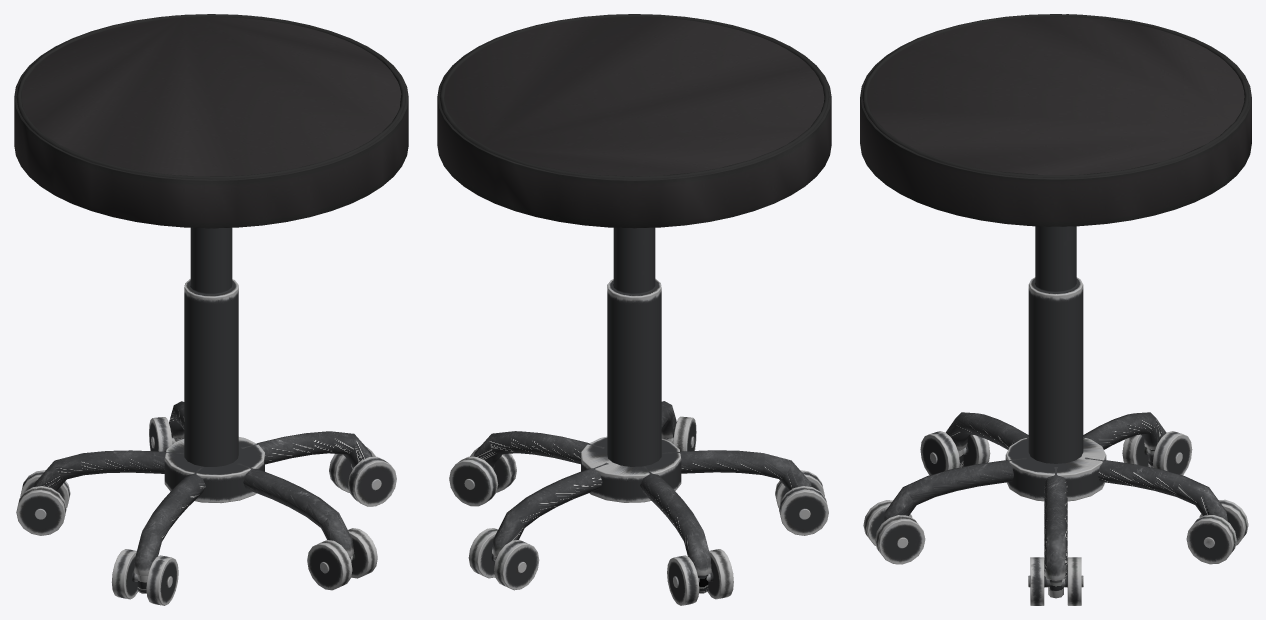
3 views of the same model, side by side, from view 1: azimuth 30°, elevation 25°; view 2: azimuth 150°, elevation 25°; view 3: azimuth 270°, elevation 25° (orthographic).
Parts seen in each view (by area): view 1: MA-32; view 2: MA-32; view 3: MA-32.
Boxes of the visible parts, bbox=[...] form: MA-32: bbox=[14, 14, 408, 605]; MA-32: bbox=[437, 14, 831, 605]; MA-32: bbox=[860, 14, 1251, 605].
Size of the model in its own units: 41.01 by 50.01 by 40.79.
